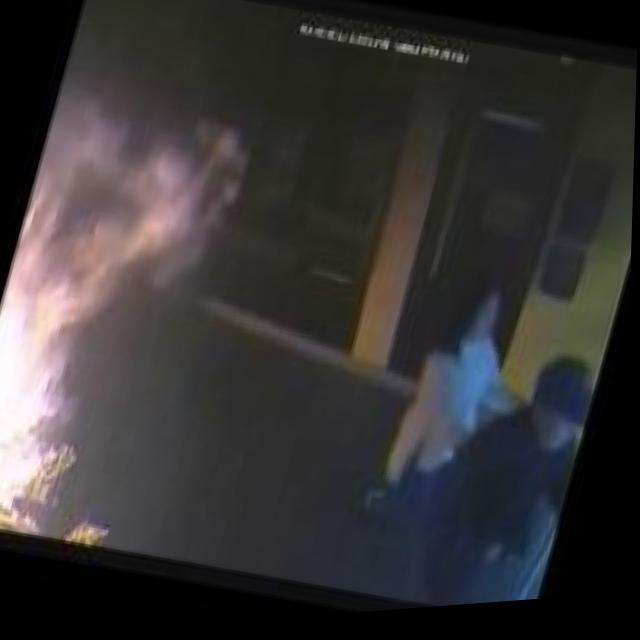fire: (0, 64, 281, 566)
